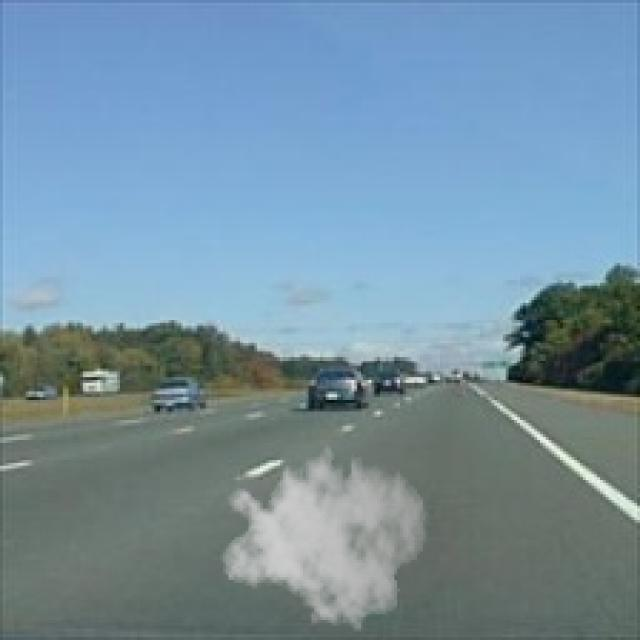Smoke: (221, 434, 428, 637)
